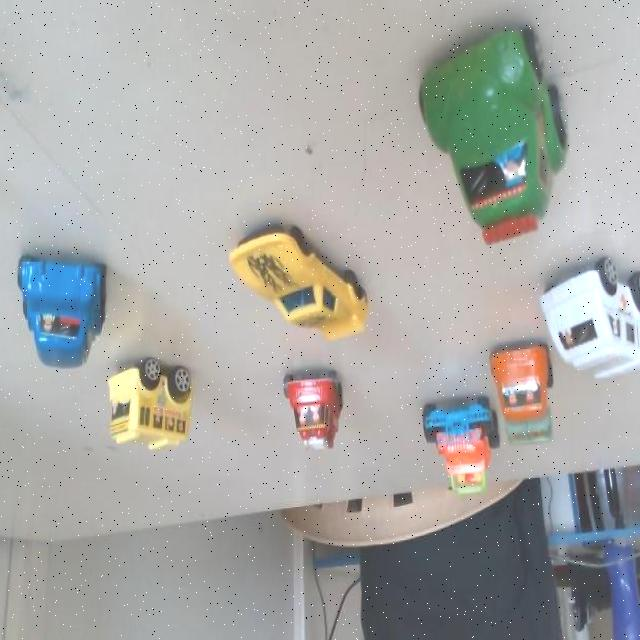car: (425, 48, 586, 240), (227, 215, 376, 352), (543, 245, 640, 393), (15, 248, 109, 371), (488, 334, 563, 466), (114, 350, 203, 452), (412, 400, 496, 504), (285, 358, 356, 462)
